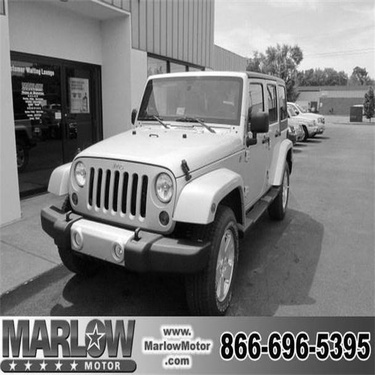car: (34, 60, 297, 321), (3, 102, 46, 186), (276, 94, 317, 140), (283, 101, 327, 135), (275, 103, 301, 150)
